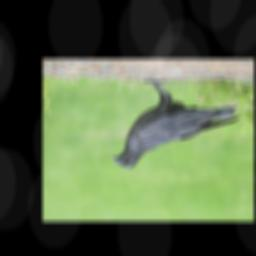Crow: (111, 79, 241, 169)
